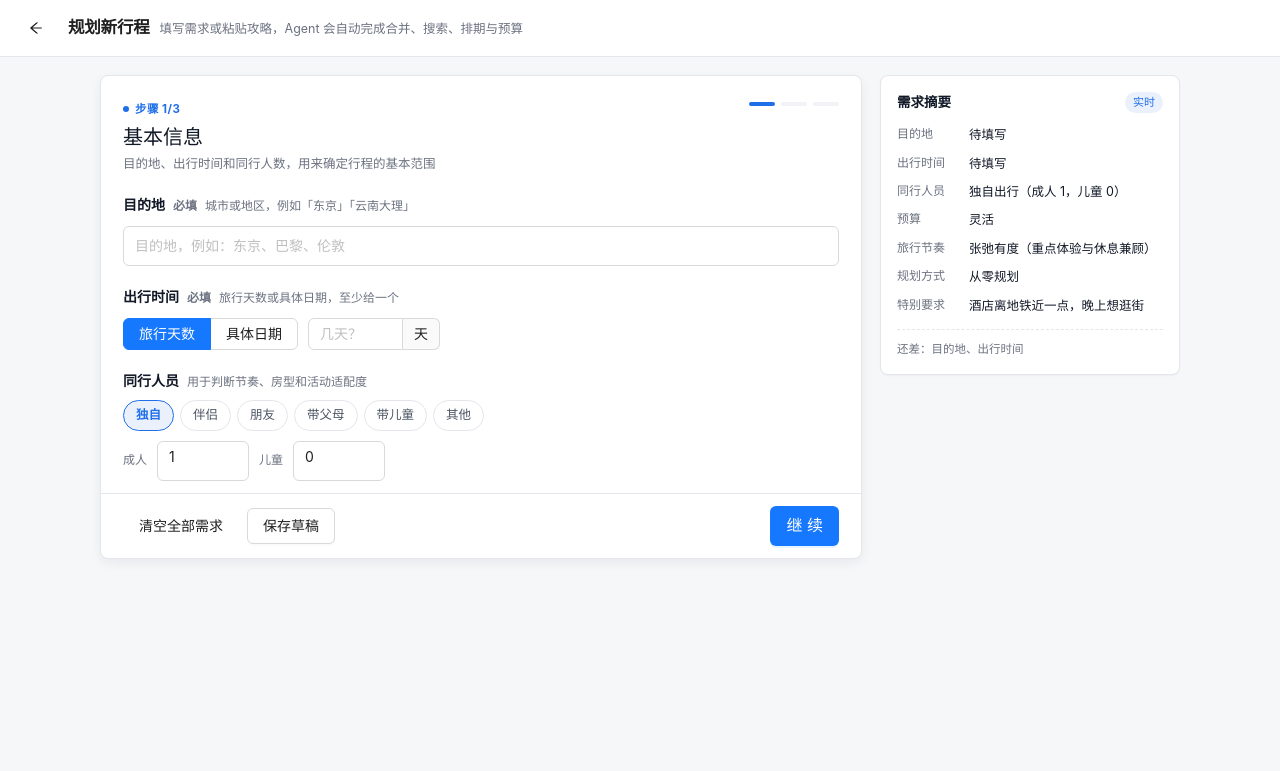
Test: Planner · 一句话需求回填（P1-02） › 解析不出结构化信息时不显示「已识别」，原话留给第 2 步的特别要求
Type "上海" into the field with test id "planner-destination" at (481, 246), box [123, 226, 839, 266]
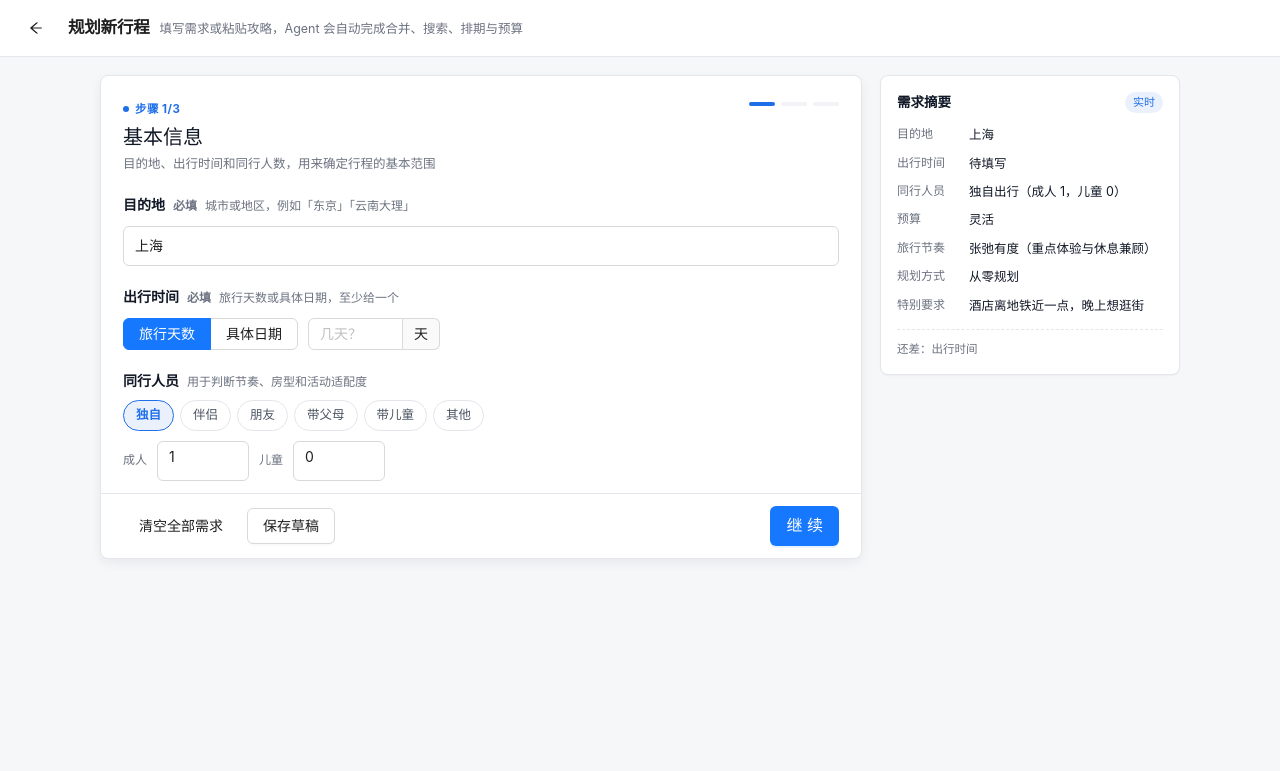
Type "2" into the number field with test id "planner-days" at (356, 334), box [309, 319, 402, 349]
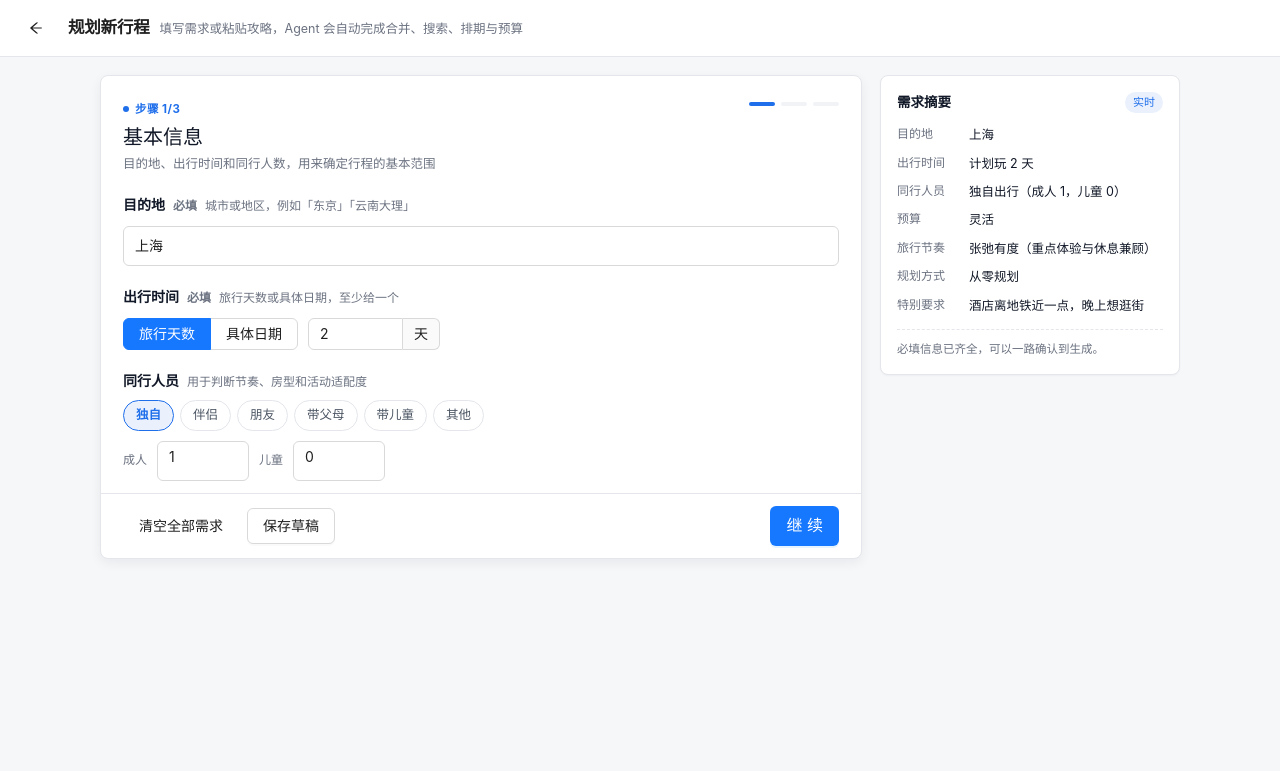
Click the button with test id "planner-next" at (805, 526), box [770, 506, 839, 546]
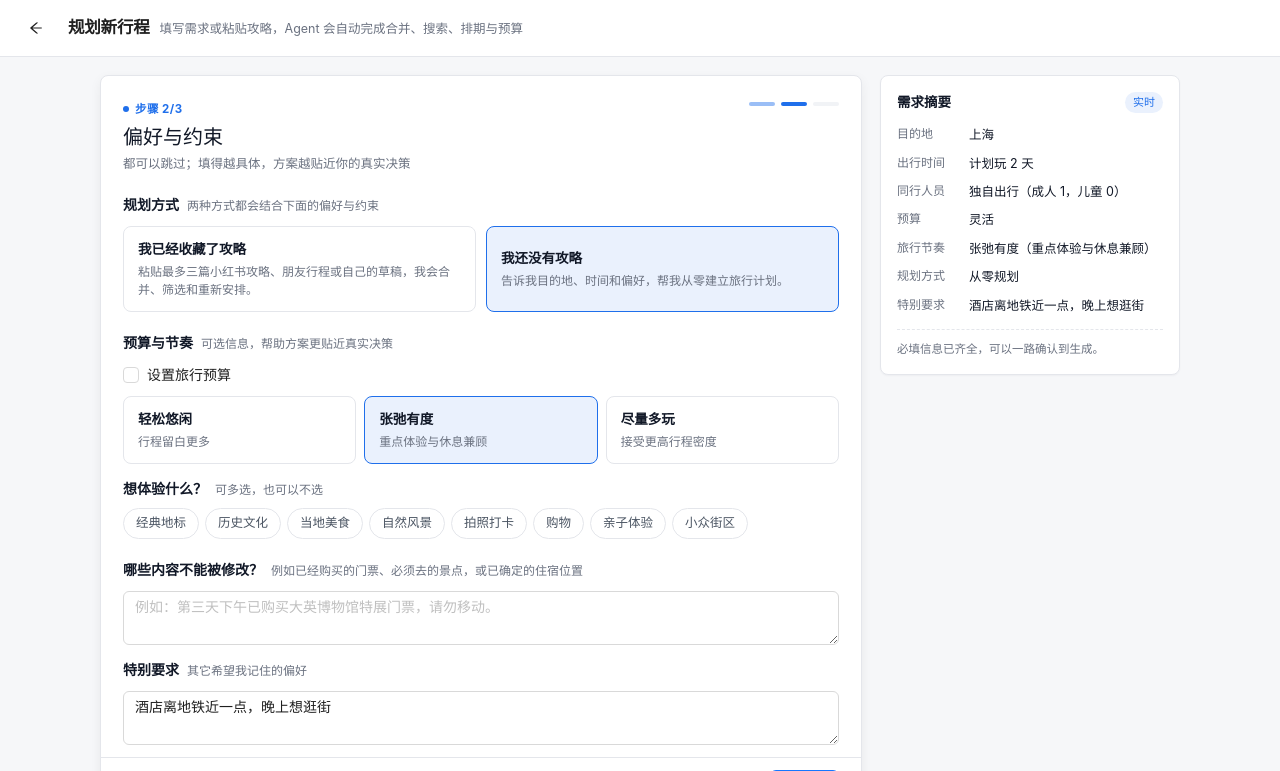
Expected: the text with test id "planner-step-indicator" reads "步骤 2/3", [123, 100, 183, 118]
